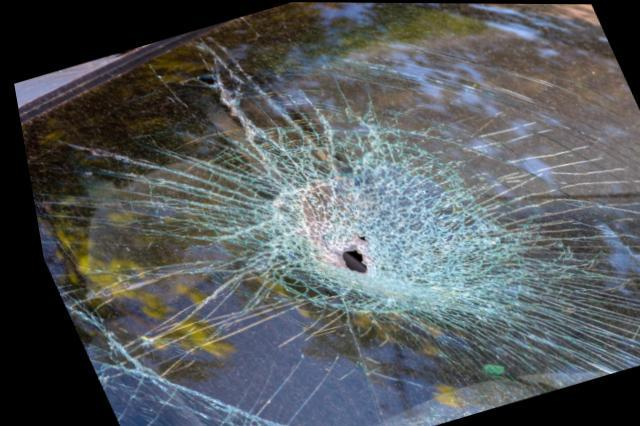glass shatter: (16, 2, 640, 426)
